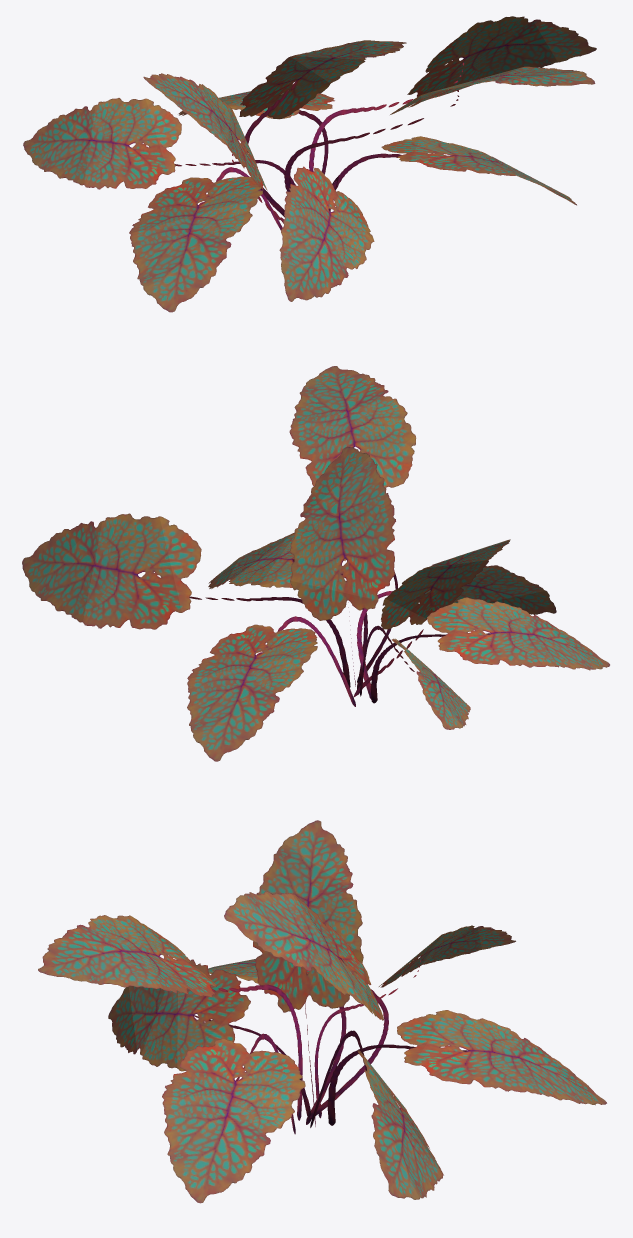
Rendered from Spin Reef B3.fbx.
The picture shows the model from 3 angles, top to bottom: view 1: azimuth 30°, elevation 25°; view 2: azimuth 150°, elevation 25°; view 3: azimuth 270°, elevation 25°; orthographic projection. The views are drawn at different scales.
Parts seen in each view (by area): view 1: Spin Reef B3; view 2: Spin Reef B3; view 3: Spin Reef B3.
Boxes of the visible parts, bbox=[...] form: Spin Reef B3: bbox=[23, 16, 596, 312]; Spin Reef B3: bbox=[22, 366, 609, 761]; Spin Reef B3: bbox=[38, 820, 606, 1203].
Size of the model in its own units: 220 by 94.59 by 196.
